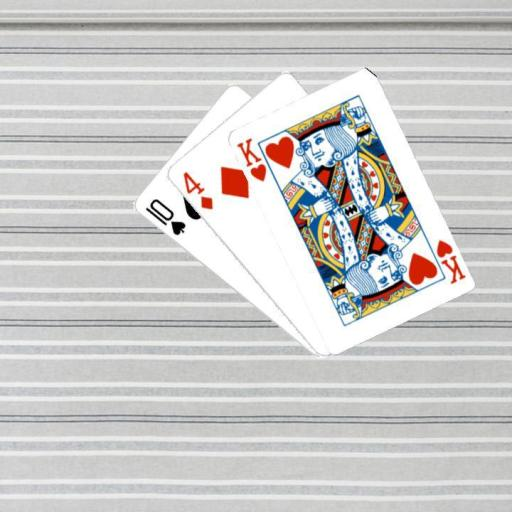10S: (142, 195, 187, 237)
4D: (179, 169, 215, 211)
KH: (233, 135, 268, 184), (433, 236, 467, 285)
